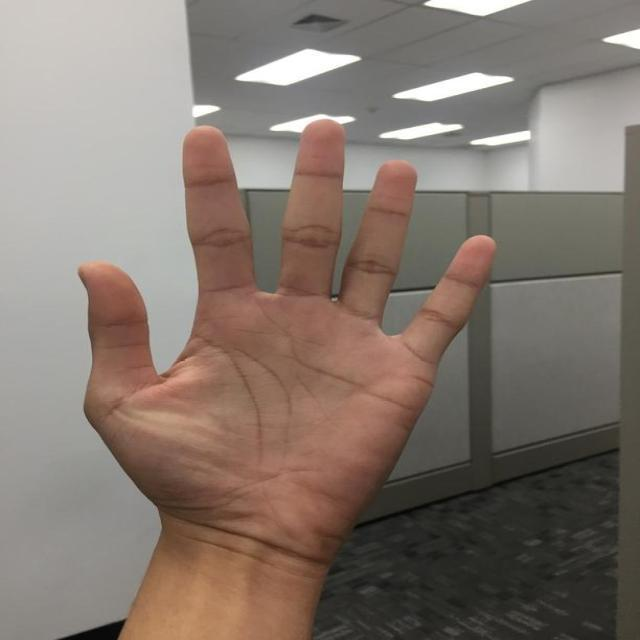hand: (68, 115, 500, 640)
